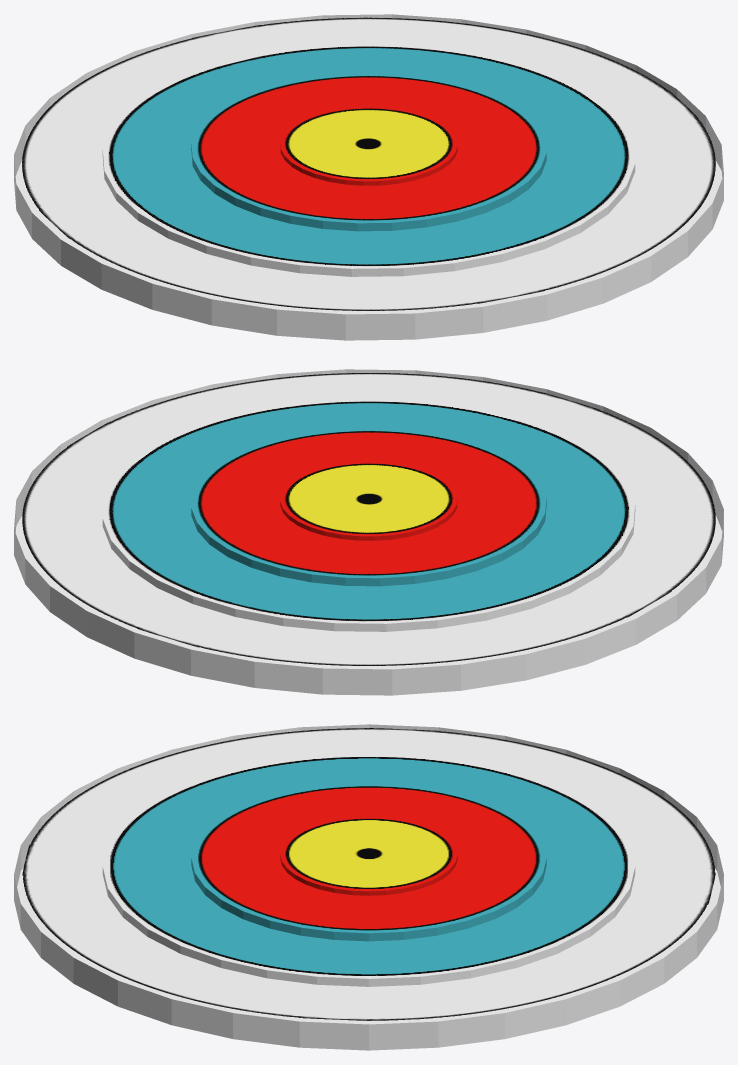
File: DianaNormalV2.fbx
The picture shows the model from 3 angles, top to bottom: view 1: azimuth 30°, elevation 25°; view 2: azimuth 150°, elevation 25°; view 3: azimuth 270°, elevation 25°; orthographic projection.
Parts seen in each view (by area): view 1: White, Blue, Red, Yellow; view 2: White, Blue, Red, Yellow; view 3: White, Blue, Red, Yellow.
Boxes of the visible parts, left/top/right/bottom form: White: left=14, top=14, right=723, bottom=340; Blue: left=102, top=43, right=635, bottom=276; Red: left=191, top=73, right=546, bottom=231; Yellow: left=280, top=106, right=457, bottom=185; White: left=14, top=369, right=723, bottom=695; Blue: left=102, top=398, right=635, bottom=631; Red: left=191, top=428, right=546, bottom=586; Yellow: left=280, top=461, right=457, bottom=540; White: left=14, top=724, right=723, bottom=1050; Blue: left=102, top=754, right=635, bottom=986; Red: left=191, top=783, right=546, bottom=941; Yellow: left=280, top=816, right=457, bottom=895.
Size of the model in its own units: 800 by 57.97 by 800.
Materials: 1 (1 with a texture image).
